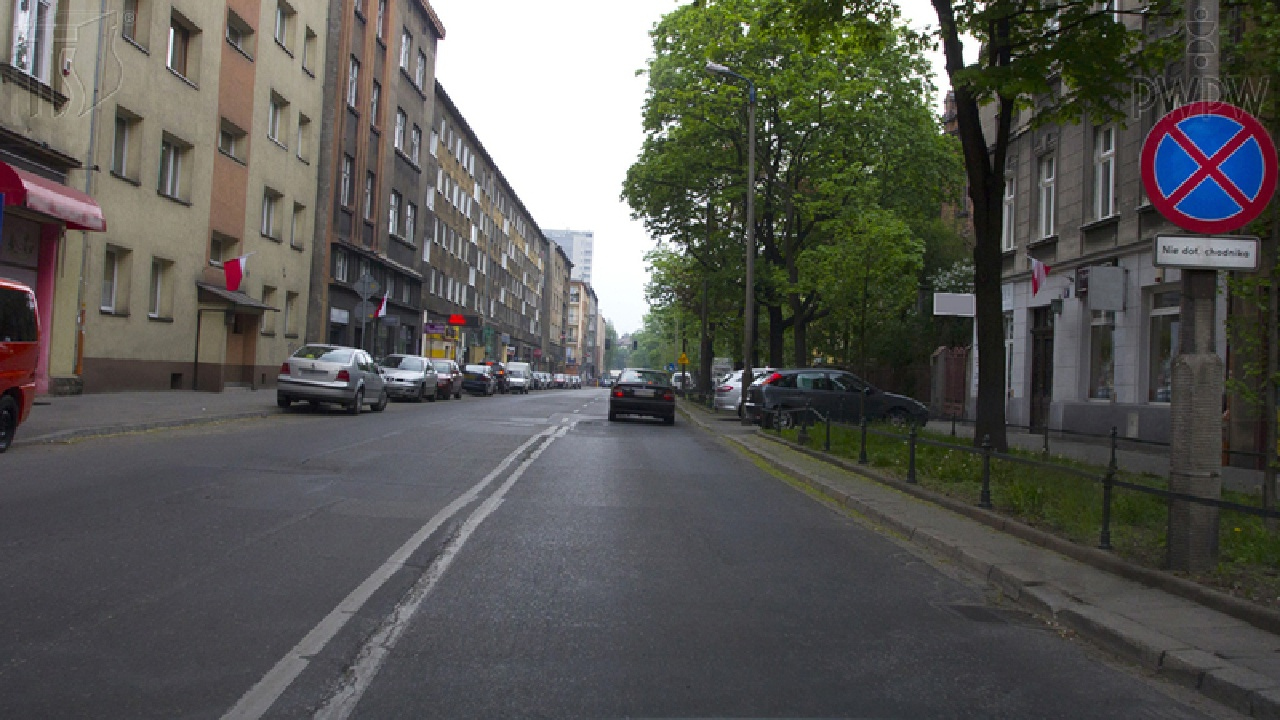B36: (1138, 100, 1279, 237)
